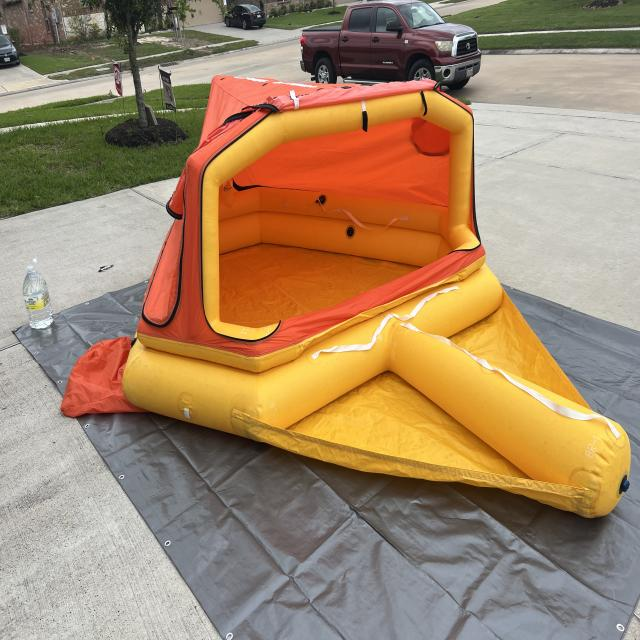Multi-person_life_raft: (60, 75, 630, 518)
